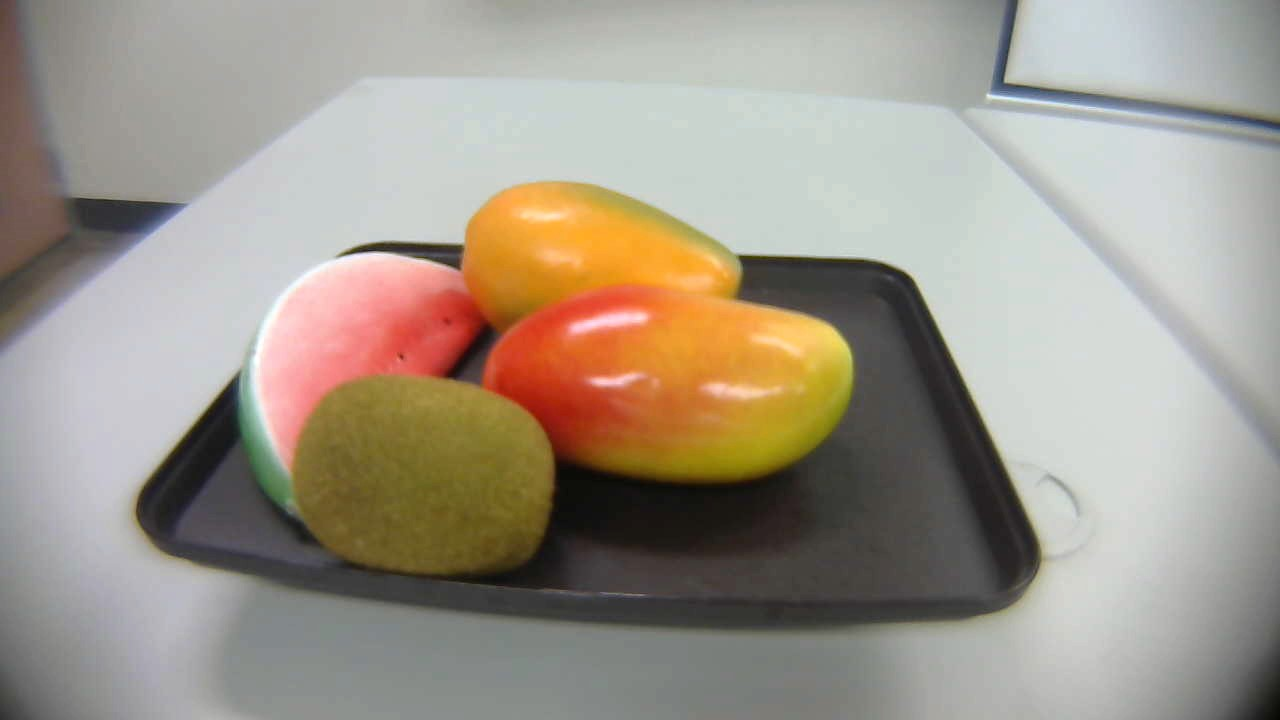kiwi fruit: (286, 371, 571, 578)
papya: (452, 174, 761, 347)
red mango: (481, 286, 868, 507)
water melon: (239, 246, 495, 519)
